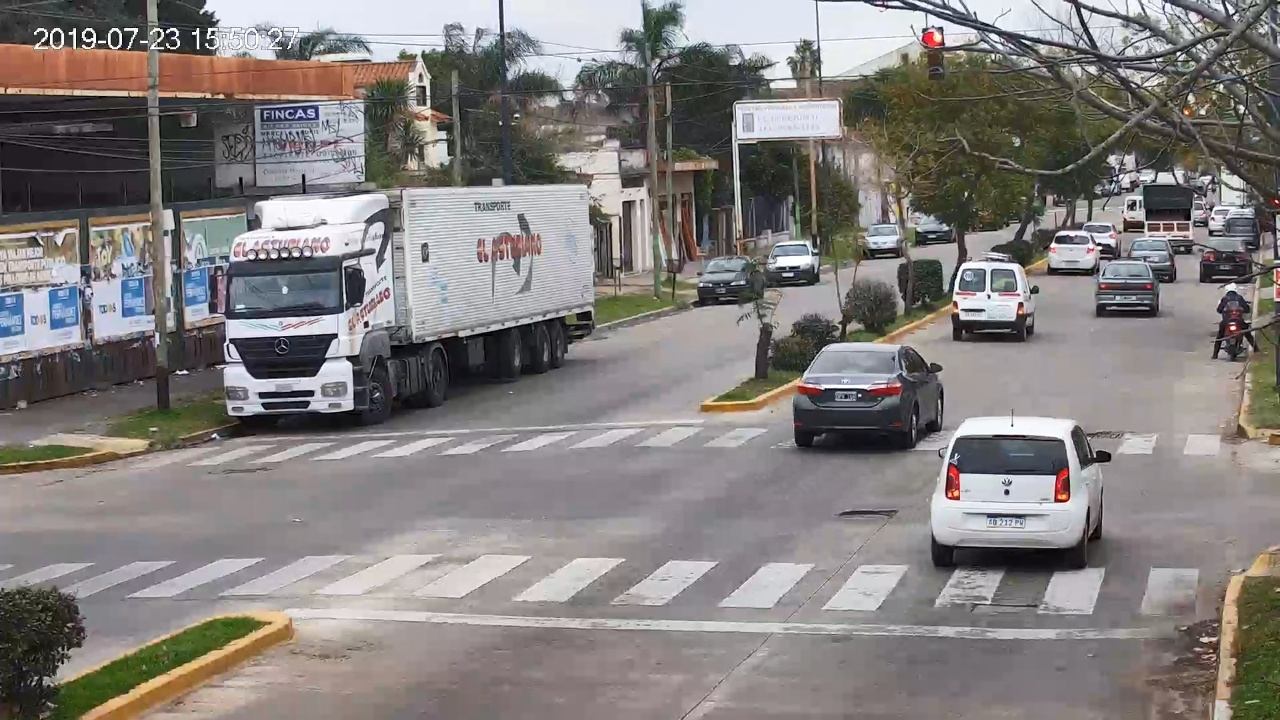car: (931, 416, 1111, 568), (793, 342, 945, 449), (952, 262, 1039, 341)
